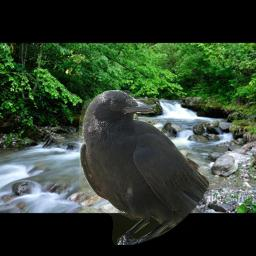Crow: (79, 90, 209, 245)
